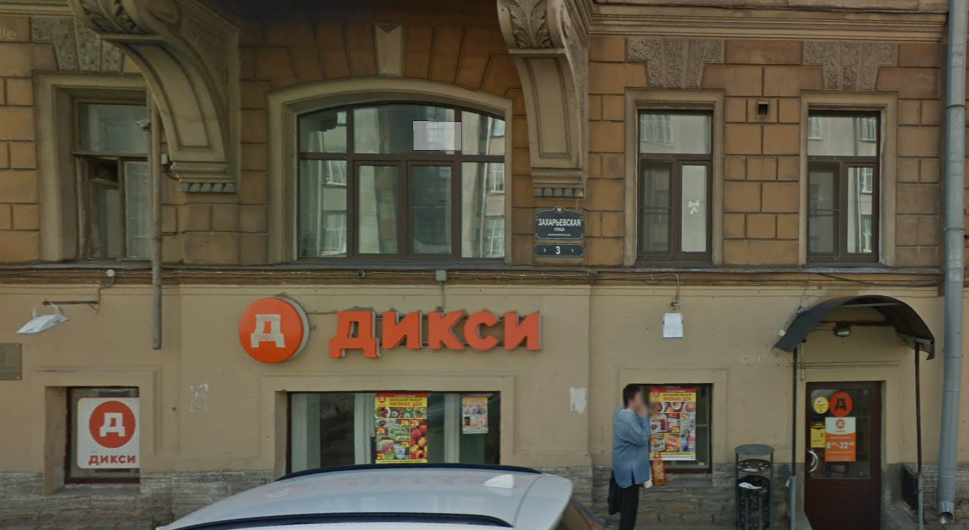door: (805, 381, 883, 530)
signboard: (239, 287, 551, 363)
window: (290, 89, 508, 262), (282, 393, 494, 462), (635, 98, 716, 266), (805, 107, 879, 265), (79, 98, 150, 262), (59, 387, 142, 477), (646, 384, 714, 470)
